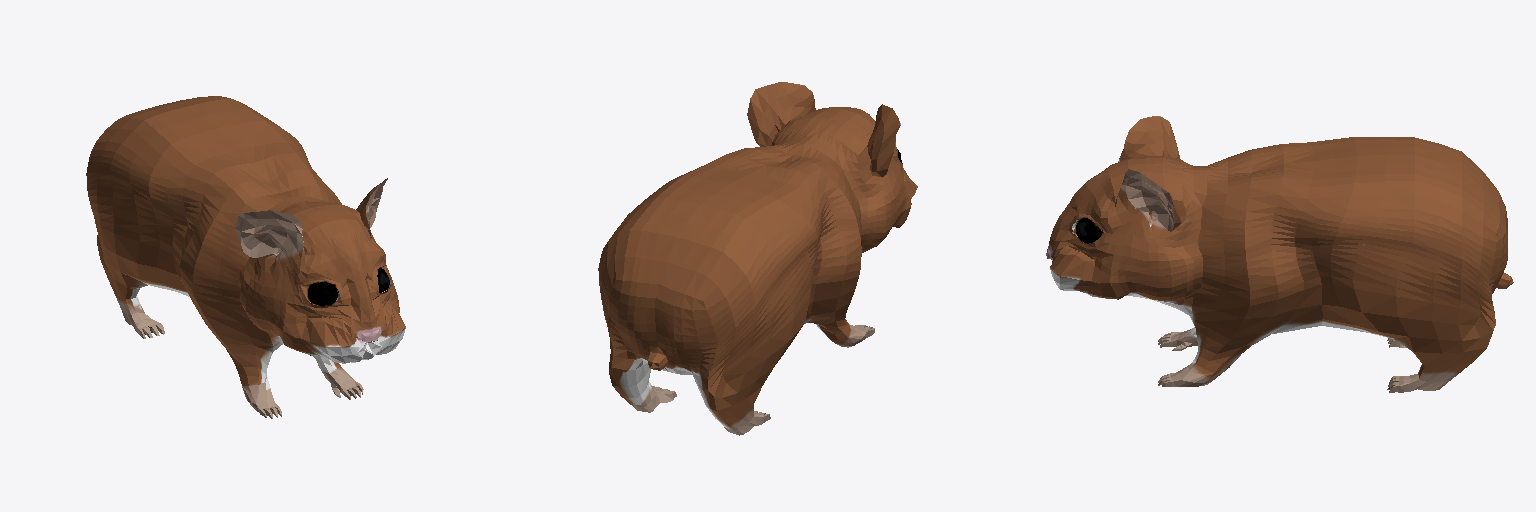
3 renders of one model, left to right at view 1: azimuth 30°, elevation 25°; view 2: azimuth 150°, elevation 25°; view 3: azimuth 270°, elevation 25°, orthographic.
Parts seen in each view (by area): view 1: Cube.004_Cube.007; view 2: Cube.004_Cube.007; view 3: Cube.004_Cube.007.
Boxes of the visible parts, <box> form: Cube.004_Cube.007: <box>86,96,405,418</box>; Cube.004_Cube.007: <box>598,82,917,435</box>; Cube.004_Cube.007: <box>1046,116,1513,392</box>.
Size of the model in its own units: 4.14 by 5.19 by 9.98.
1 materials, 1 textured.